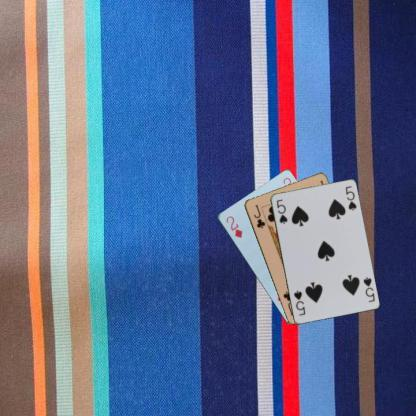2d: (223, 213, 243, 239)
5s: (360, 274, 376, 303), (274, 196, 288, 225)
Jc: (251, 202, 266, 229)
